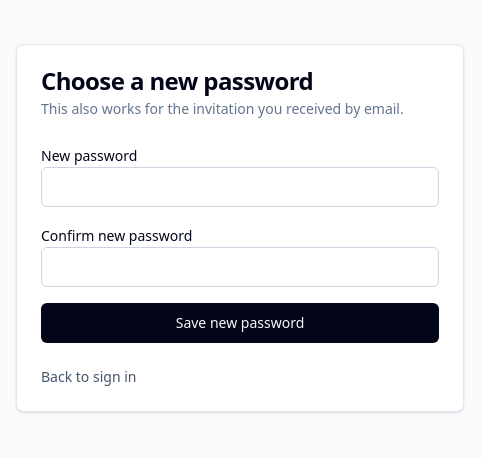
Scenario: ResetPasswordPage › checks the new password locally
The width and height of the screenshot is (481, 458).
In the password field labelled "New password": (240, 187) [41,167,439,207], type "short"
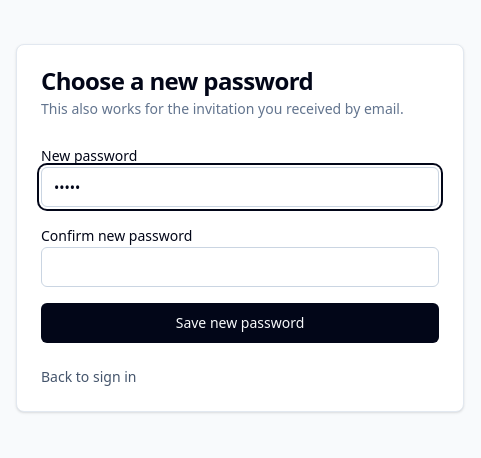
In the password field labelled "Confirm new password": (240, 267) [41,247,439,287], type "different"
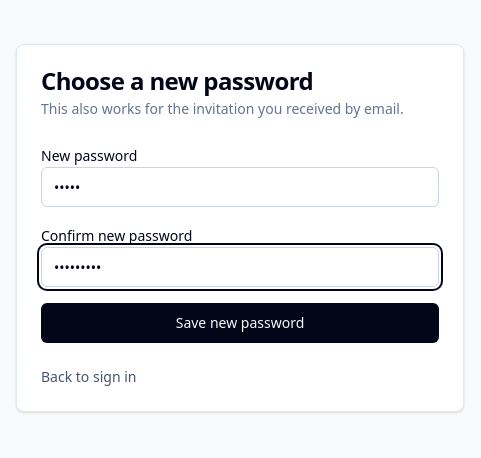
Click the button "Save new password": click(240, 323) [41,303,439,343]
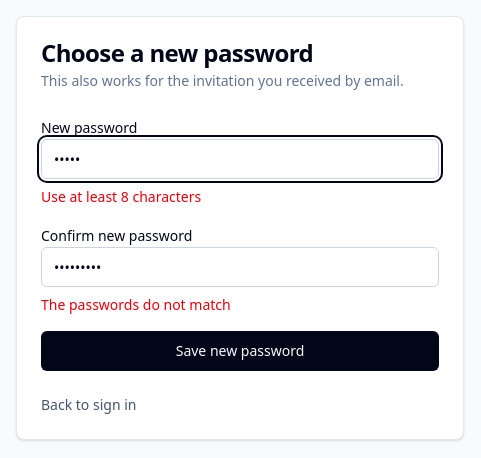
Check: the text "Use at least 8 characters" is shown, box [41,187,201,206]
Check: the text "The passwords do not match" is shown, box [41,295,231,314]
